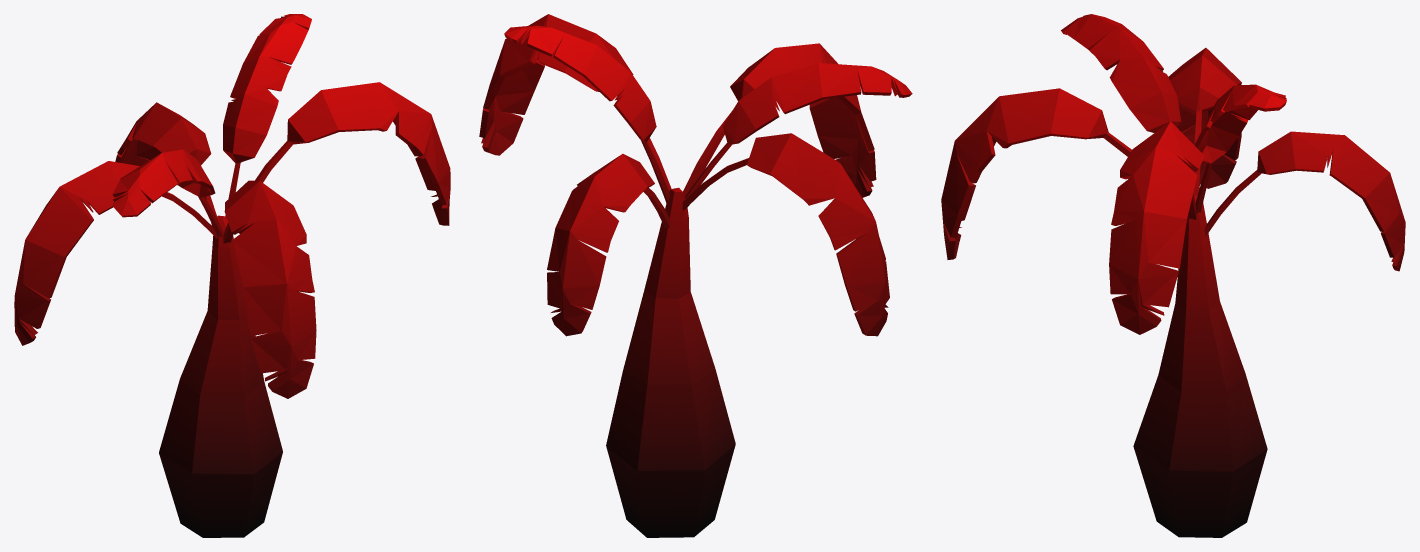
The model's file is TreePalmLarge01.fbx.
3 views of the same model, side by side, from view 1: azimuth 30°, elevation 25°; view 2: azimuth 150°, elevation 25°; view 3: azimuth 270°, elevation 25° (orthographic). The views are drawn at different scales.
Visible parts, largest first — view 1: TreePalmLarge01_LOD0; view 2: TreePalmLarge01_LOD0; view 3: TreePalmLarge01_LOD0.
Boxes of the visible parts, left/top/right/bottom form: TreePalmLarge01_LOD0: left=14, top=14, right=450, bottom=537; TreePalmLarge01_LOD0: left=479, top=14, right=912, bottom=537; TreePalmLarge01_LOD0: left=941, top=14, right=1405, bottom=537.
Size of what is drawn, in the model's own units: 169 by 185 by 161.
